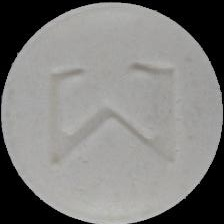42794-018: (0, 0, 224, 224)
